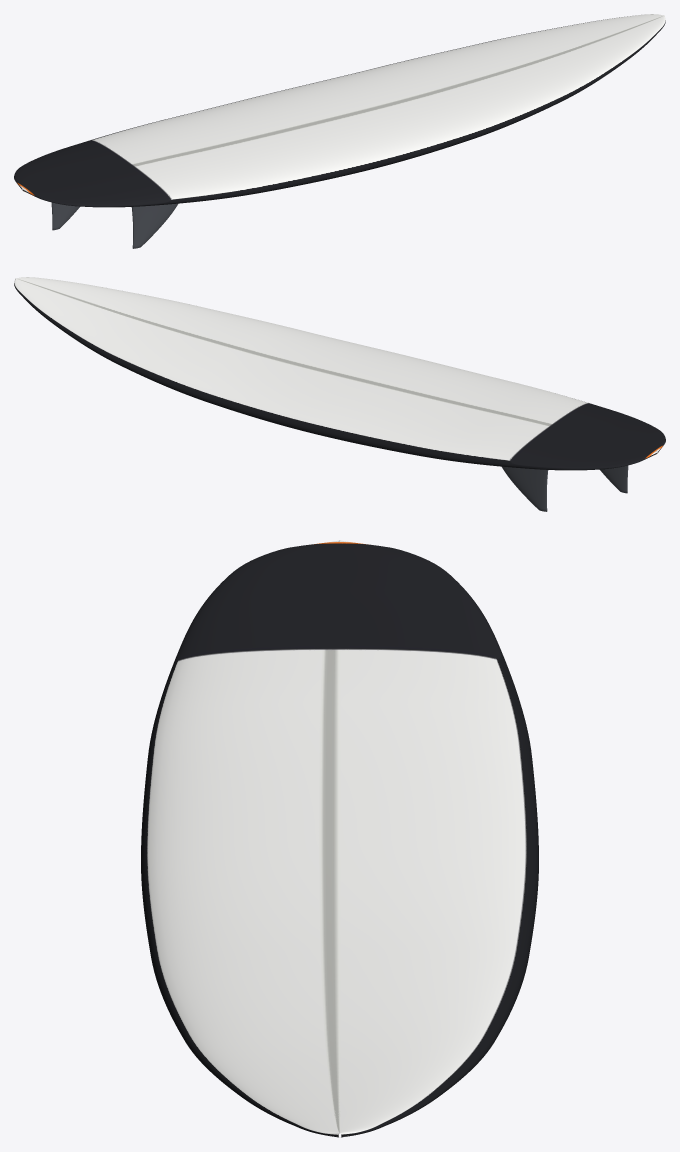
The model's file is board-short-511.glb.
The picture shows the model from 3 angles, top to bottom: view 1: azimuth 30°, elevation 25°; view 2: azimuth 150°, elevation 25°; view 3: azimuth 270°, elevation 25°; orthographic projection. The views are drawn at different scales.
Visible parts, largest first — view 1: board-short-511, aileron-lat-1, aileron-central; view 2: board-short-511, aileron-lat--1, aileron-central; view 3: board-short-511.
Boxes of the visible parts, box(x1,y1,x2,y2) form: board-short-511: box(14, 14, 665, 207); aileron-lat-1: box(131, 203, 177, 248); aileron-central: box(51, 202, 79, 230); board-short-511: box(14, 277, 665, 470); aileron-lat--1: box(502, 466, 548, 511); aileron-central: box(600, 465, 628, 493); board-short-511: box(141, 540, 538, 1137).
Bounding box in the file's own units: 1.8 × 0.1968 × 0.484.
2 materials, 1 textured.
